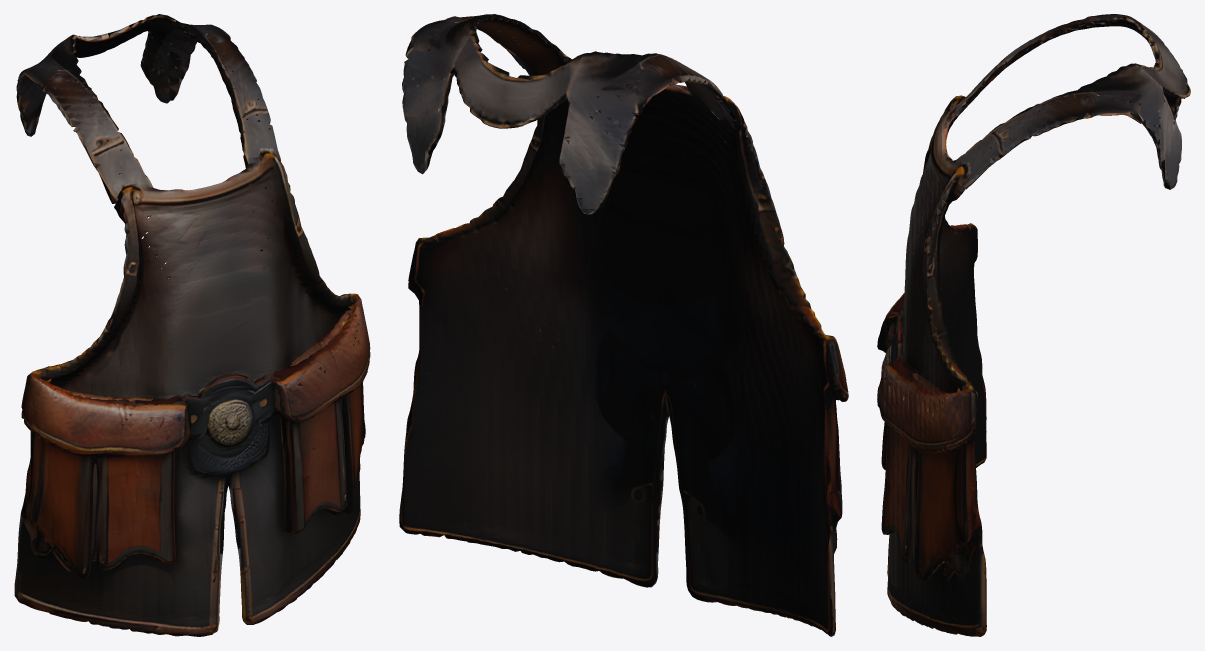
The model's file is prop.glb.
3 views of the same model, side by side, from view 1: azimuth 30°, elevation 25°; view 2: azimuth 150°, elevation 25°; view 3: azimuth 270°, elevation 25° (orthographic). The views are drawn at different scales.
Parts seen in each view (by area): view 1: geometry_0; view 2: geometry_0; view 3: geometry_0.
Part boxes in pixels (left/top/right/bottom): geometry_0: left=14, top=14, right=370, bottom=636; geometry_0: left=399, top=14, right=848, bottom=636; geometry_0: left=877, top=14, right=1190, bottom=636.
Bounding box in the file's own units: 1.35 × 1.95 × 1.01.
Materials: 1 (1 with a texture image).
